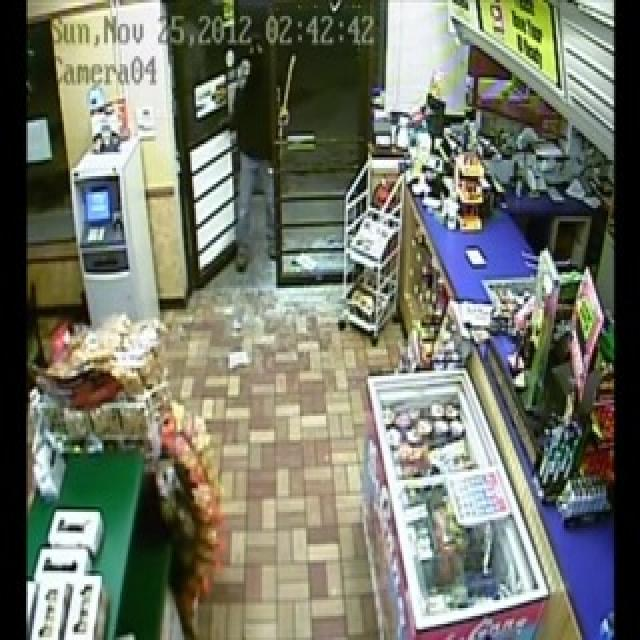thief: (223, 42, 295, 241)
